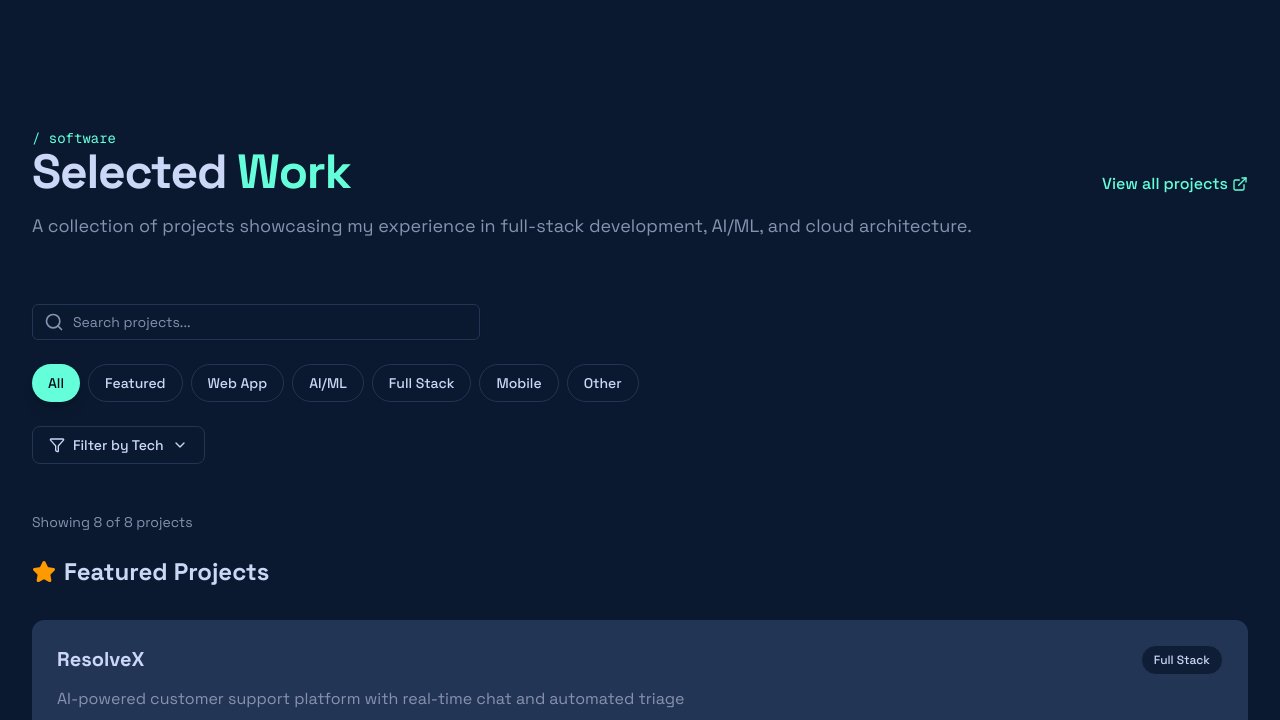
Projects Section › shows no results message when filters match nothing
Type "nonexistentproject" into the search field with placeholder "Search projects..." at {"x": 256, "y": 322}, box [32, 304, 480, 340]
(page scrolled)
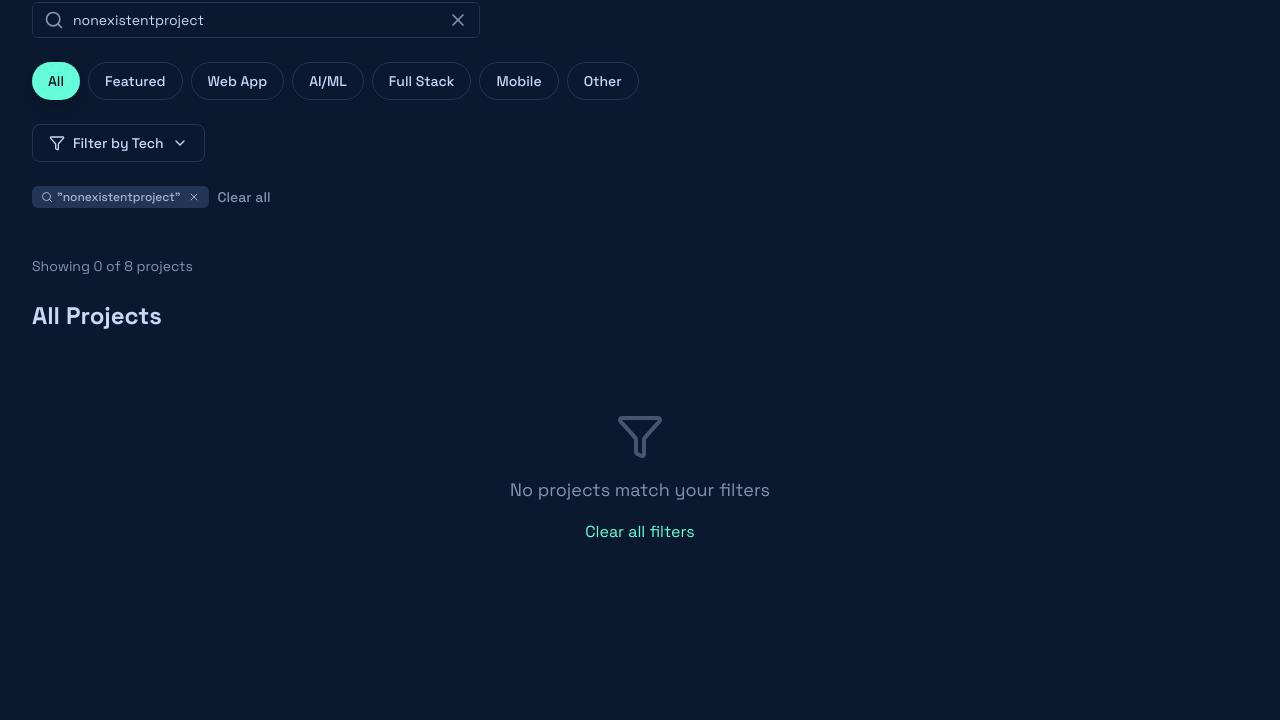
Expected: the text "No projects match your filters" is shown, [510, 478, 770, 501]
